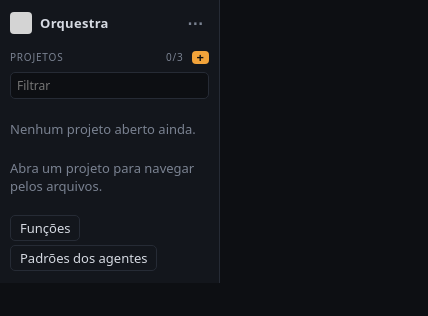
Test: Sidebar: menu do Orquestra › o item "Abrir pasta de logs" envia open-logs e fecha o menu
Click the button named "Menu do Orquestra" at point(195, 23), box top-left (181, 15), bottom-right (209, 31)
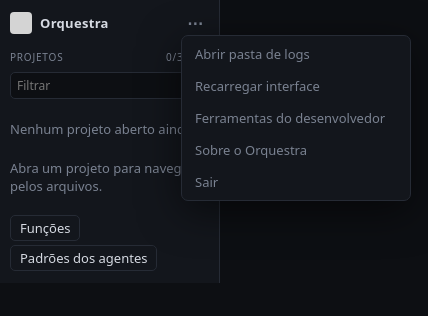
Check: the number of menu items is 5
Click the menu item "Abrir pasta de logs" at point(296, 54), box top-left (185, 39), bottom-right (407, 69)
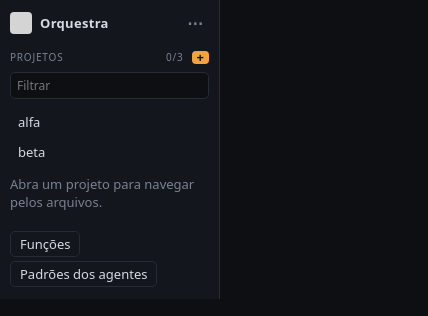
Check: the menu is gone
